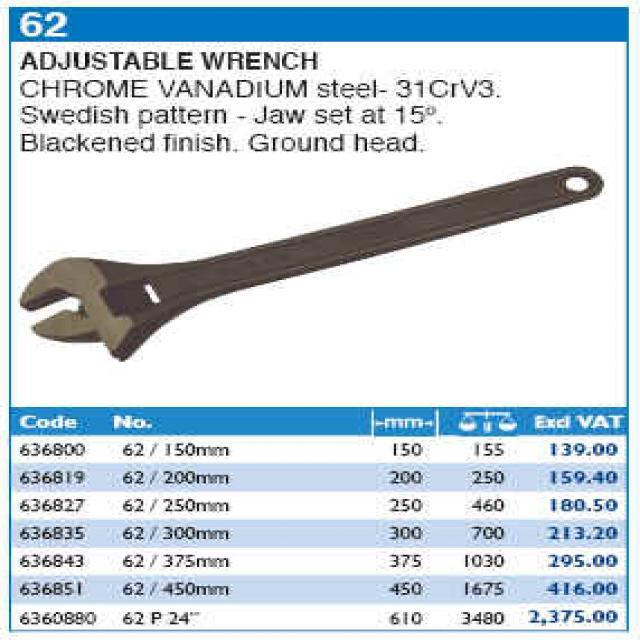wrench: (18, 162, 608, 368)
